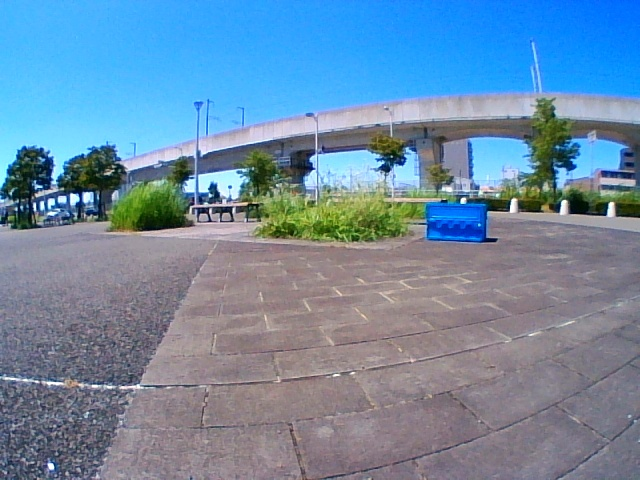blue_box: (427, 205, 485, 240)
